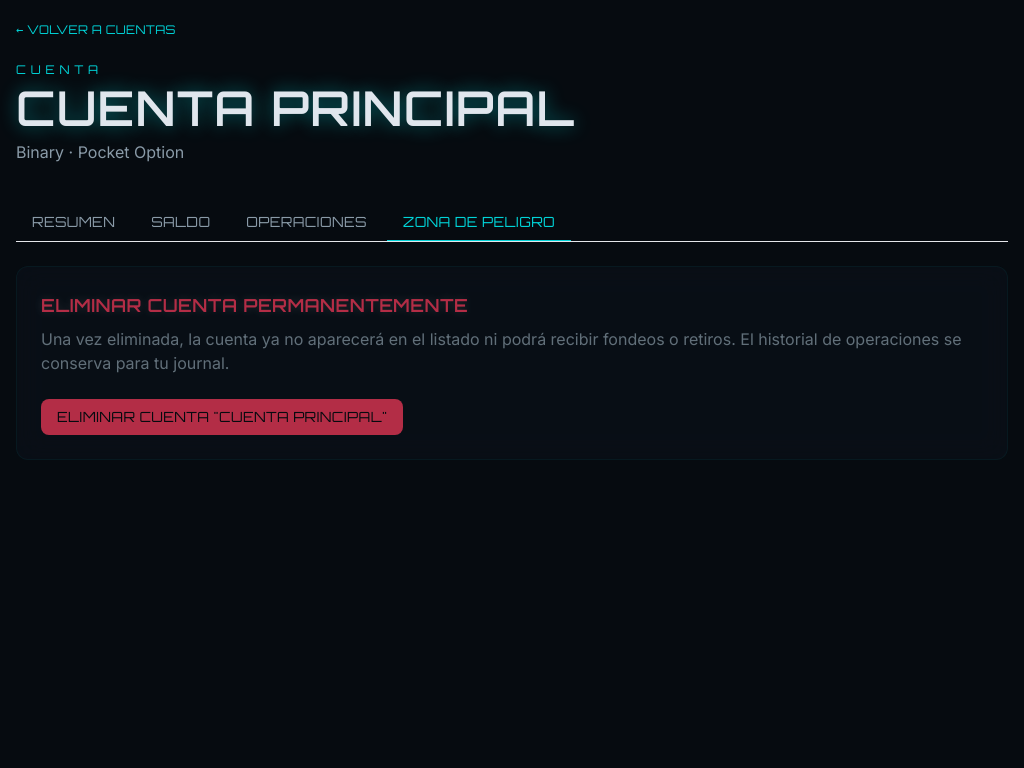
CuentasDetailPage › Zona de peligro delete button enables only when "ELIMINAR" is typed
expect the heading "Eliminar cuenta permanentemente" is shown: met, box [41, 294, 468, 316]
Click the button "Eliminar cuenta \"Cuenta principal\"" at (222, 417), box [41, 399, 404, 435]
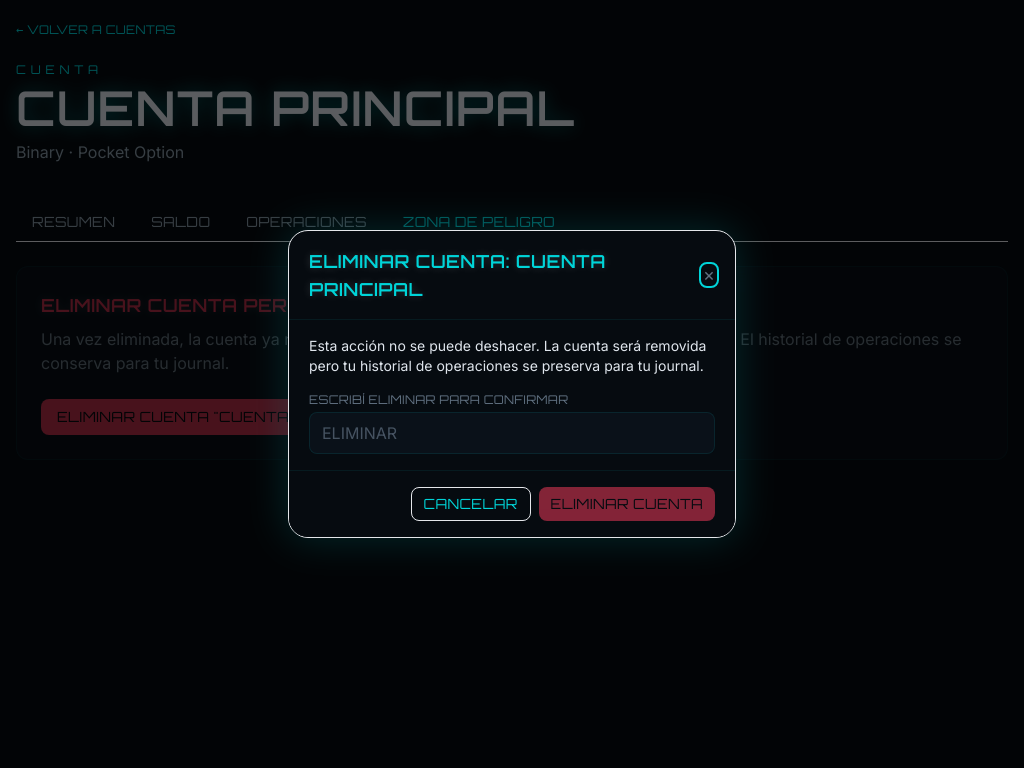
expect the dialog "Eliminar cuenta: Cuenta principal" is shown: met
expect the field labelled "Escribí ELIMINAR para confirmar" is shown: met
expect the submit button is disabled: met, box [539, 487, 715, 521]
Wrong case → still disabled.
Type "eliminar" into the field labelled "Escribí ELIMINAR para confirmar" at (512, 433), box [309, 412, 715, 454]
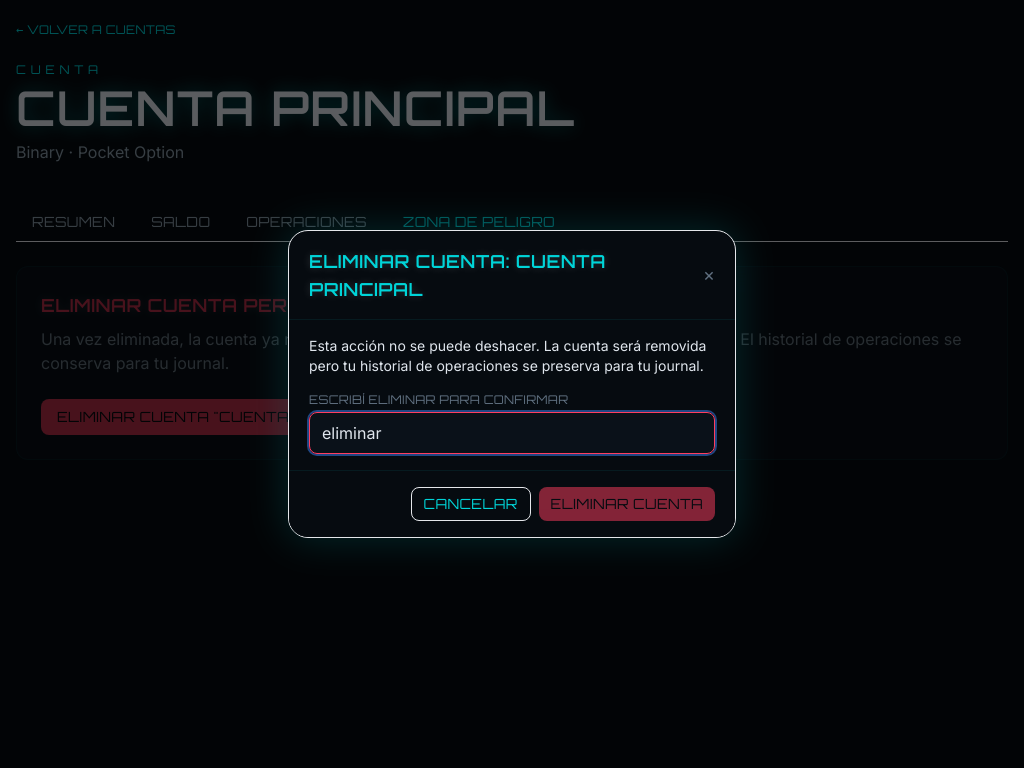
expect the submit button is disabled: met, box [539, 487, 715, 521]
Correct value → enabled.
Replace the text in the field labelled "Escribí ELIMINAR para confirmar" with "ELIMINAR" at (512, 433), box [309, 412, 715, 454]
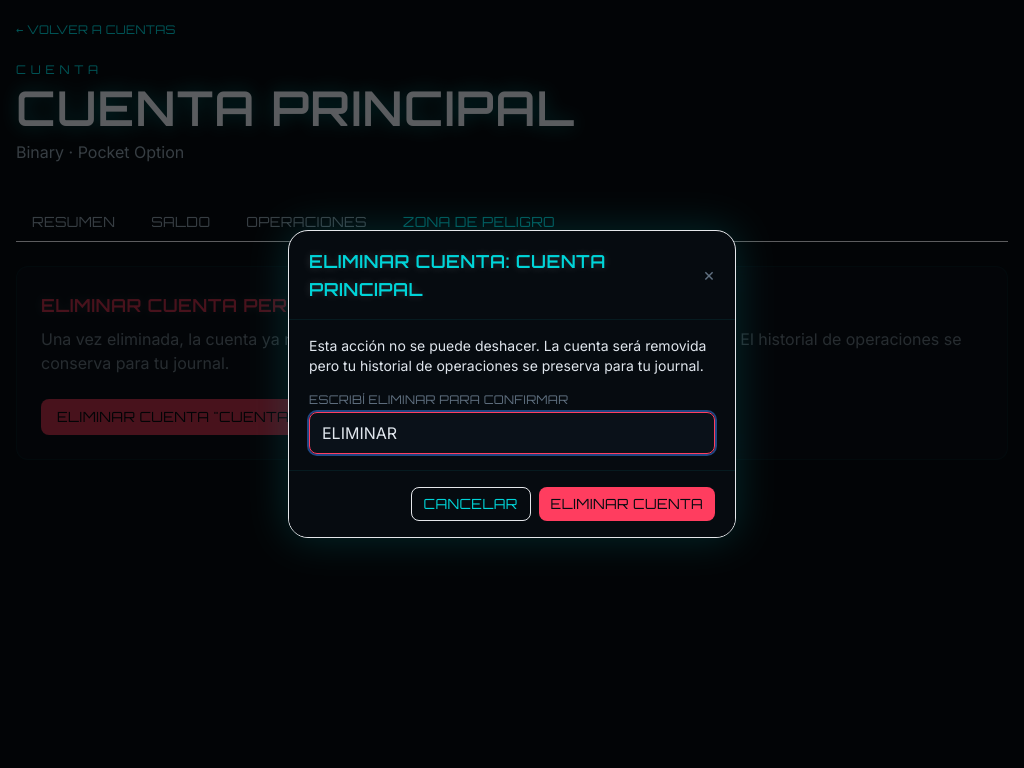
expect the submit button is enabled: met, box [539, 487, 715, 521]
